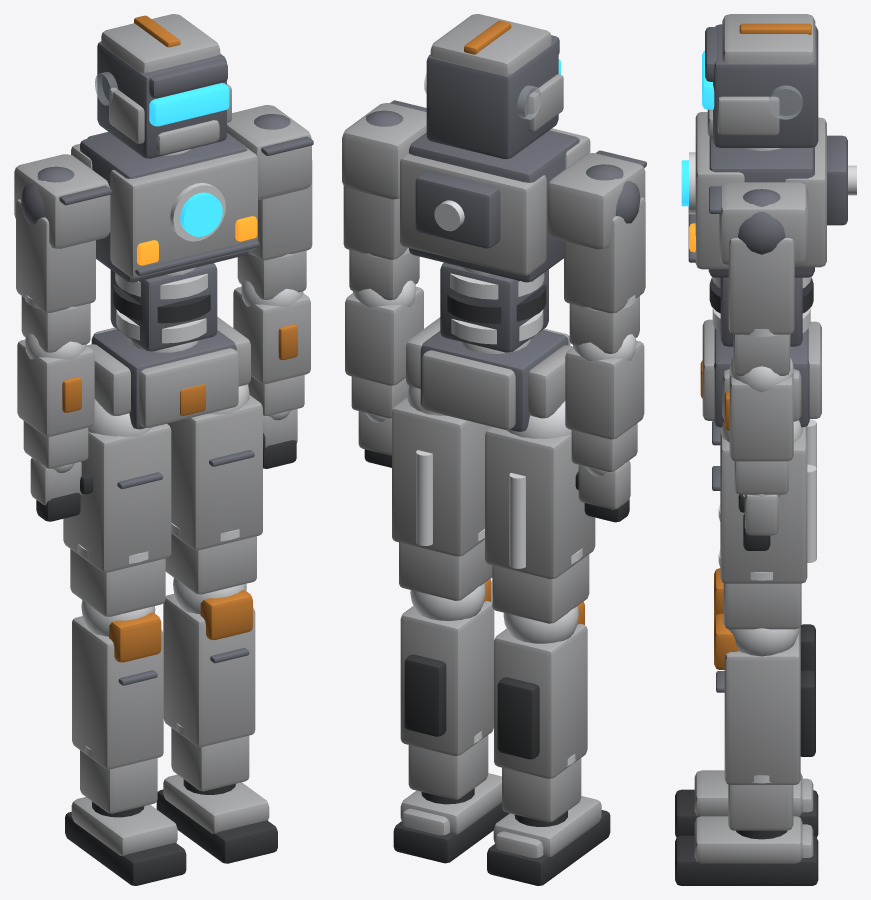
Rendered from ragdoll-robot.glb.
The picture shows the model from 3 angles, left to right: view 1: azimuth 30°, elevation 25°; view 2: azimuth 150°, elevation 25°; view 3: azimuth 270°, elevation 25°; orthographic projection. The views are drawn at different scales.
Parts seen in each view (by area): view 1: chest, shin_l, thigh_r, shin_r, thigh_l, head, pelvis, lower_arm_r, upper_arm_r, lower_arm_l, abdomen, foot_r (+4 smaller); view 2: chest, thigh_r, shin_l, shin_r, thigh_l, head, pelvis, lower_arm_r, upper_arm_r, lower_arm_l, abdomen, foot_r (+4 smaller); view 3: chest, shin_l, head, thigh_l, foot_l, upper_arm_l, lower_arm_l, pelvis, foot_r, abdomen, hand_l, shin_r (+1 smaller).
Part boxes in pixels (x1,y1,x2,y2): chest: (14,105,313,282); shin_l: (163,578,255,794); thigh_r: (63,399,171,616); shin_r: (72,600,163,817); thigh_l: (165,384,262,594); head: (95,14,231,158); pelvis: (87,316,250,429); lower_arm_r: (17,333,94,468); upper_arm_r: (16,199,95,352); lower_arm_l: (233,280,310,415); abdomen: (110,263,217,352); foot_r: (65,797,186,885); chest: (342,100,646,282); thigh_r: (485,401,595,623); shin_l: (400,579,494,804); shin_r: (494,602,587,826); thigh_l: (392,386,492,600); head: (424,14,563,159); pelvis: (406,317,572,431); lower_arm_r: (565,334,644,471); upper_arm_r: (564,197,645,353); lower_arm_l: (345,280,423,418); abdomen: (440,262,548,353); foot_r: (487,796,610,885); chest: (681,112,856,277); shin_l: (714,613,815,839); head: (702,14,818,147); thigh_l: (712,420,816,629); foot_l: (675,816,818,885); upper_arm_l: (728,238,794,375); lower_arm_l: (724,357,793,496); pelvis: (700,319,821,427); foot_r: (675,770,818,837); abdomen: (709,276,813,346); hand_l: (738,494,780,550); shin_r: (714,568,815,674).
Size of the model in its own units: 0.654 by 1.82 by 0.363.
